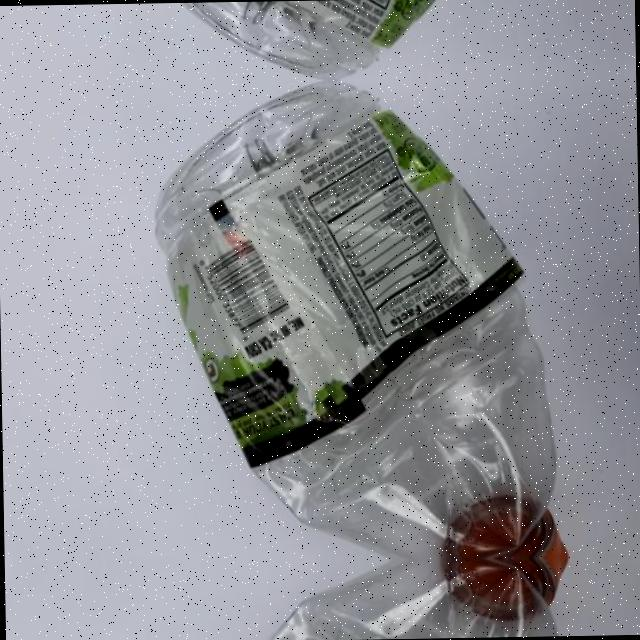Plastic: (144, 74, 594, 564), (152, 555, 595, 640), (142, 0, 585, 81)
